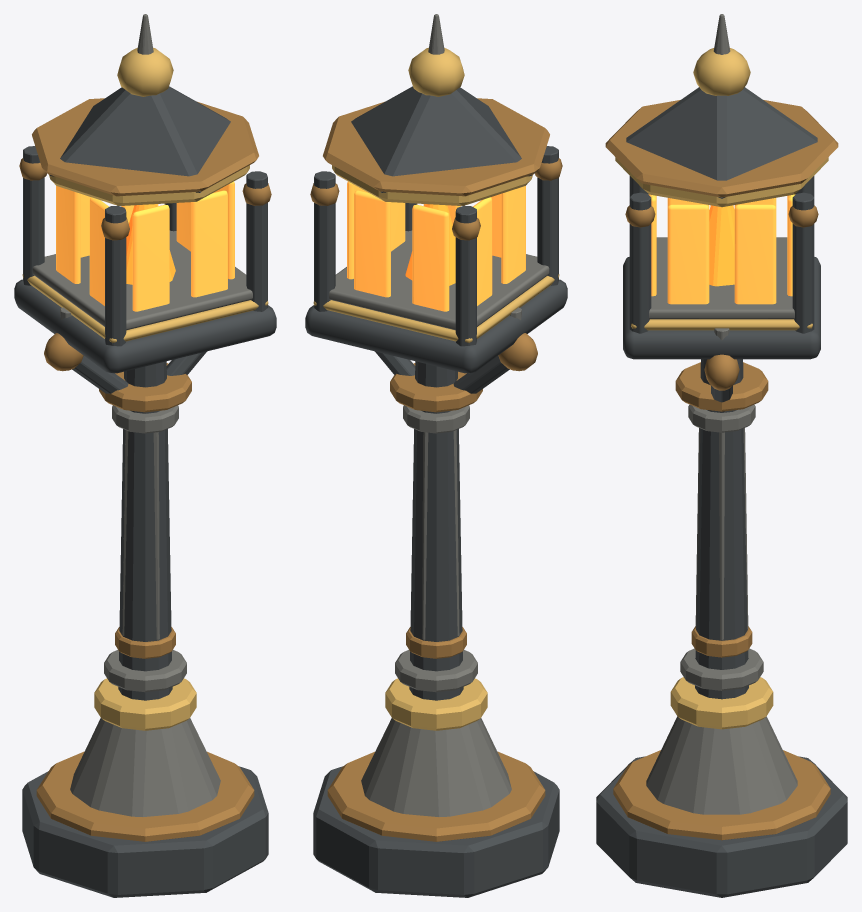
The model's file is poste_iluminacao.glb.
The picture shows the model from 3 angles, left to right: view 1: azimuth 30°, elevation 25°; view 2: azimuth 150°, elevation 25°; view 3: azimuth 270°, elevation 25°; orthographic projection.
Visible parts, largest first — view 1: Base | sapata de ferro; view 2: Base | sapata de ferro; view 3: Base | sapata de ferro.
Boxes of the visible parts, x1,y1,x2,y2 form: Base | sapata de ferro: (14,14,276,897); Base | sapata de ferro: (305,14,567,897); Base | sapata de ferro: (596,14,847,897).
Size of the model in its own units: 0.7862 by 2.87 by 0.7862.
